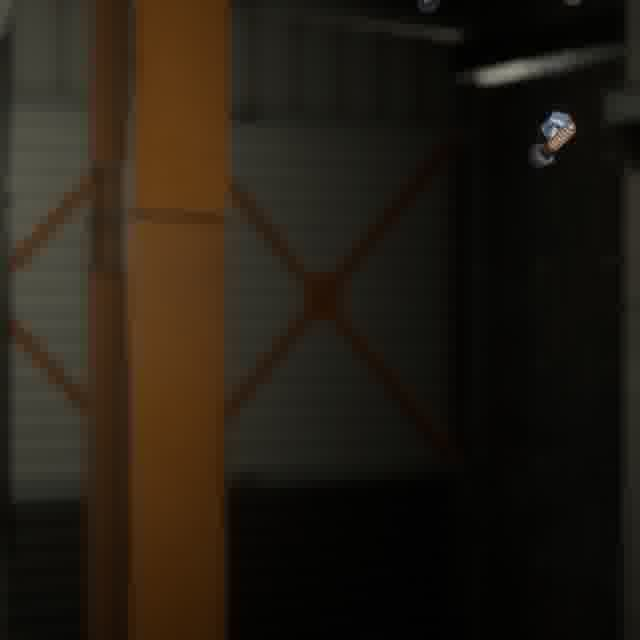bolt: (524, 116, 580, 173)
nut: (536, 106, 577, 143)
